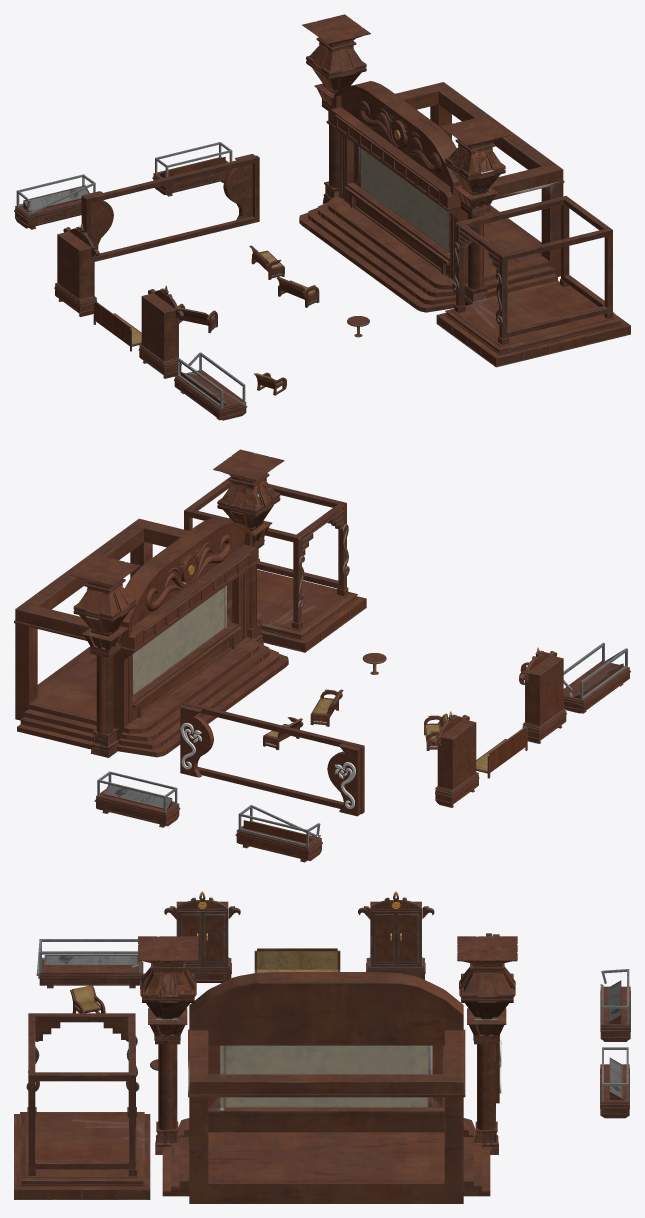
The model's file is Prop.fbx.
The picture shows the model from 3 angles, top to bottom: view 1: azimuth 30°, elevation 25°; view 2: azimuth 150°, elevation 25°; view 3: azimuth 270°, elevation 25°; orthographic projection. The views are drawn at different scales.
Visible parts, largest first — view 1: Panggung.001, Panggung Musik 1.003, Dinding Alat Musik.003, Ujung tiang panggung.003, Ujung tiang panggung.004, Penengah.001, Lemari.002, Lemari.003, Meja kaca.001, Pembatas.002, Tiang .002, Meja kaca.003 (+12 smaller); view 2: Panggung.001, Panggung Musik 1.003, Dinding Alat Musik.003, Ujung tiang panggung.004, Ujung tiang panggung.003, Lemari.002, Lemari.003, Penengah.001, Tiang .005, Meja kaca.001, Meja kaca.003, Pembatas.002 (+12 smaller); view 3: Panggung.001, Panggung Musik 1.003, Dinding Alat Musik.003, Ujung tiang panggung.004, Ujung tiang panggung.003, Lemari.002, Lemari.003, Meja kaca.001, Tiang .002, Tiang .005, BangkuSave.001, Meja kaca.003 (+7 smaller).
Boxes of the visible parts, x1,y1,x2,y2 form: Panggung.001: [299, 81, 564, 312]; Panggung Musik 1.003: [436, 283, 630, 367]; Dinding Alat Musik.003: [454, 196, 613, 344]; Ujung tiang panggung.003: [441, 116, 509, 216]; Ujung tiang panggung.004: [302, 14, 370, 110]; Penengah.001: [84, 155, 259, 261]; Lemari.002: [54, 224, 99, 316]; Lemari.003: [138, 285, 183, 378]; Meja kaca.001: [174, 370, 247, 420]; Pembatas.002: [223, 154, 254, 219]; Tiang .002: [464, 214, 488, 305]; Meja kaca.003: [14, 199, 81, 229]; Panggung.001: [14, 517, 288, 757]; Panggung Musik 1.003: [257, 569, 366, 652]; Dinding Alat Musik.003: [184, 476, 348, 629]; Ujung tiang panggung.004: [69, 555, 140, 658]; Ujung tiang panggung.003: [213, 449, 284, 548]; Lemari.002: [432, 711, 479, 807]; Lemari.003: [519, 647, 566, 743]; Penengah.001: [183, 702, 364, 814]; Tiang .005: [90, 655, 118, 757]; Meja kaca.001: [563, 661, 630, 713]; Meja kaca.003: [235, 821, 322, 862]; Pembatas.002: [180, 705, 213, 777]; Panggung.001: [162, 972, 490, 1203]; Panggung Musik 1.003: [14, 1112, 150, 1199]; Dinding Alat Musik.003: [27, 1013, 136, 1176]; Ujung tiang panggung.004: [457, 936, 517, 1044]; Ujung tiang panggung.003: [138, 936, 198, 1044]; Lemari.002: [358, 891, 434, 979]; Lemari.003: [164, 891, 240, 982]; Meja kaca.001: [38, 960, 143, 988]; Tiang .002: [155, 1044, 178, 1154]; Tiang .005: [475, 1044, 498, 1154]; BangkuSave.001: [254, 948, 340, 972]; Meja kaca.003: [600, 986, 630, 1041].
Size of the model in its own units: 18.7 by 21.24 by 7.67.
